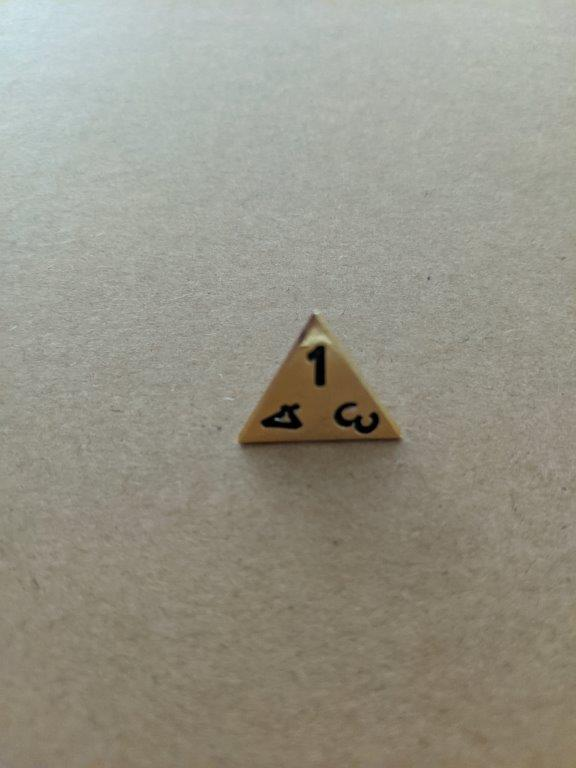d4-1: (226, 305, 409, 453)
